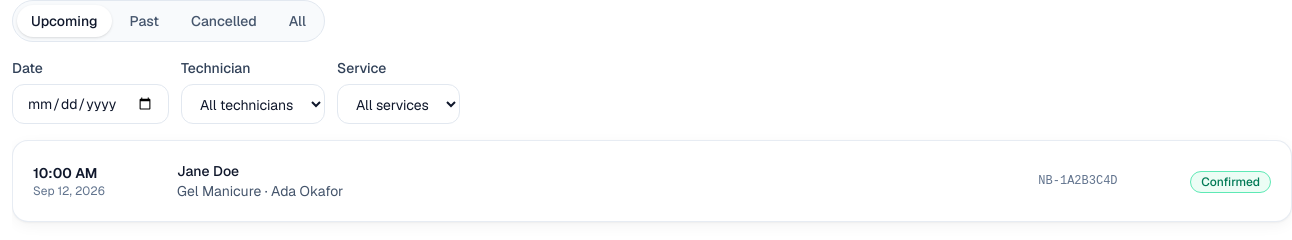
Scenario: BookingList — filters › clears all three filters via the clear action, leaving the view untouched
Select "Ada Okafor" in the dropdown labelled "Technician" at (253, 104), box x1=181 y1=84 x2=325 y2=124
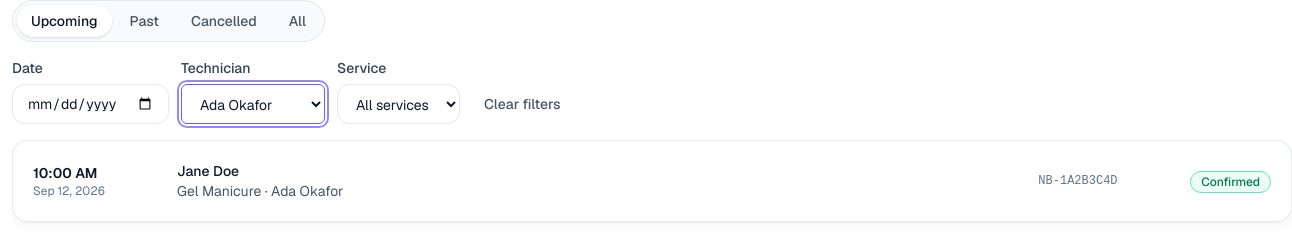
Click the tab "Past" at (144, 21), box x1=116 y1=5 x2=173 y2=37
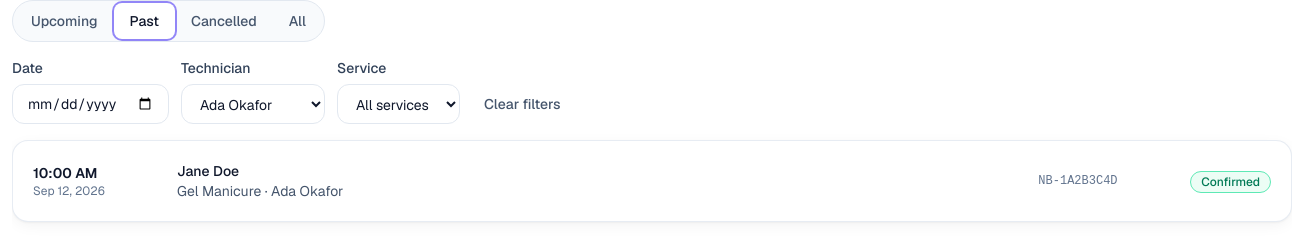
Result: the button "Clear filters" is shown
Click the button "Clear filters" at (522, 104), box x1=472 y1=84 x2=572 y2=124
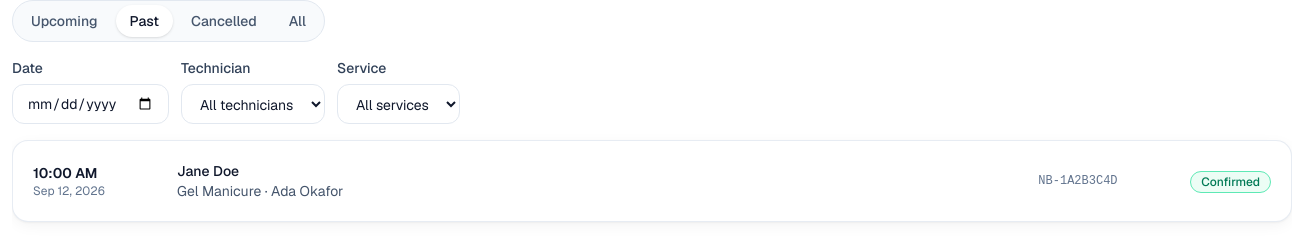
Result: the button "Clear filters" is gone
